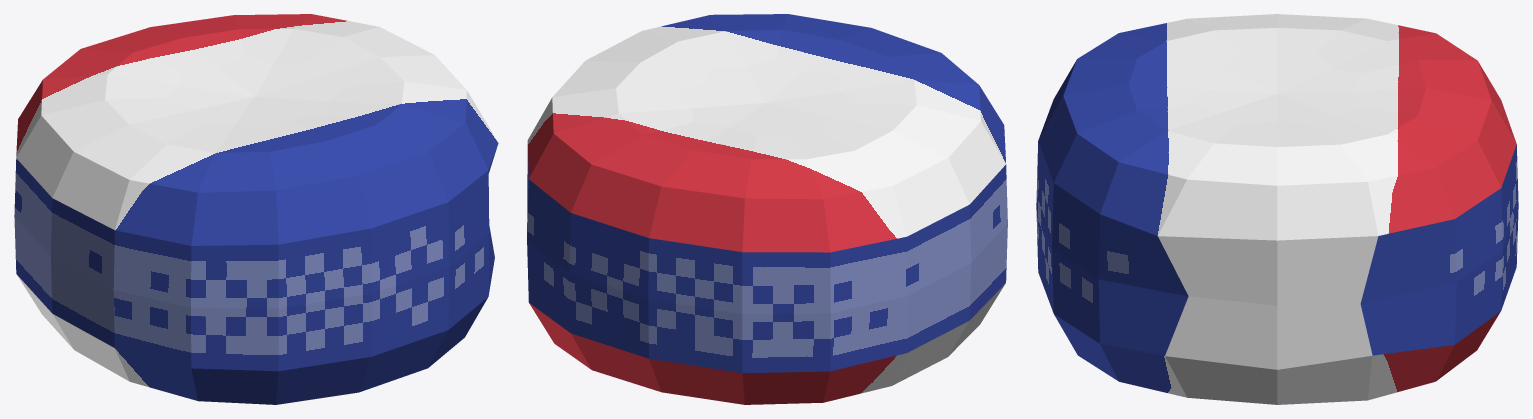
File: oofball_france.glb
3 views of the same model, side by side, from view 1: azimuth 30°, elevation 25°; view 2: azimuth 150°, elevation 25°; view 3: azimuth 270°, elevation 25° (orthographic). The views are drawn at different scales.
Parts seen in each view (by area): view 1: Cube; view 2: Cube; view 3: Cube.
Part boxes in pixels (x1,y1,x2,y2): Cube: (14,14,498,404); Cube: (527,14,1007,404); Cube: (1036,14,1518,404).
Size of the model in its own units: 1.87 by 1.07 by 1.89.
Materials: 1 (1 with a texture image).
